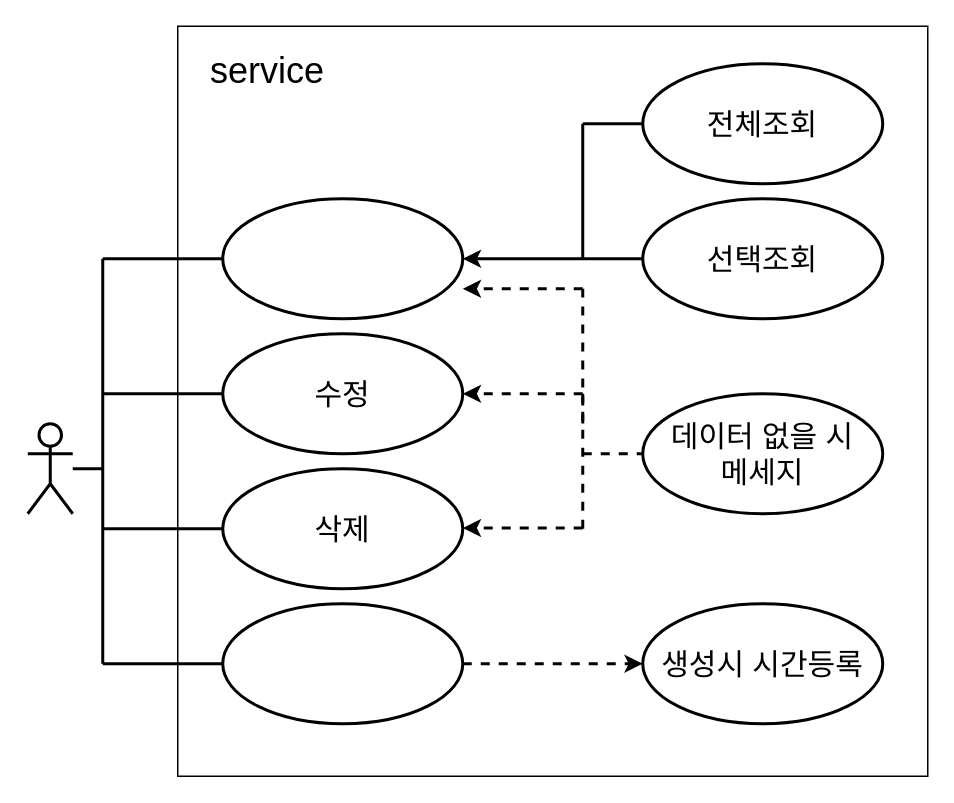
The diagram is 954 pixels wide and 803 high, and some of its shapes have lost their labels. The shapes that lost their labels are listed below. From the top down, each one's box as (x1, y1, x2, y2) in pixels, then its label:
(220, 196, 464, 320): 조회
(26, 422, 74, 514): Actor
(220, 602, 464, 724): 생성
